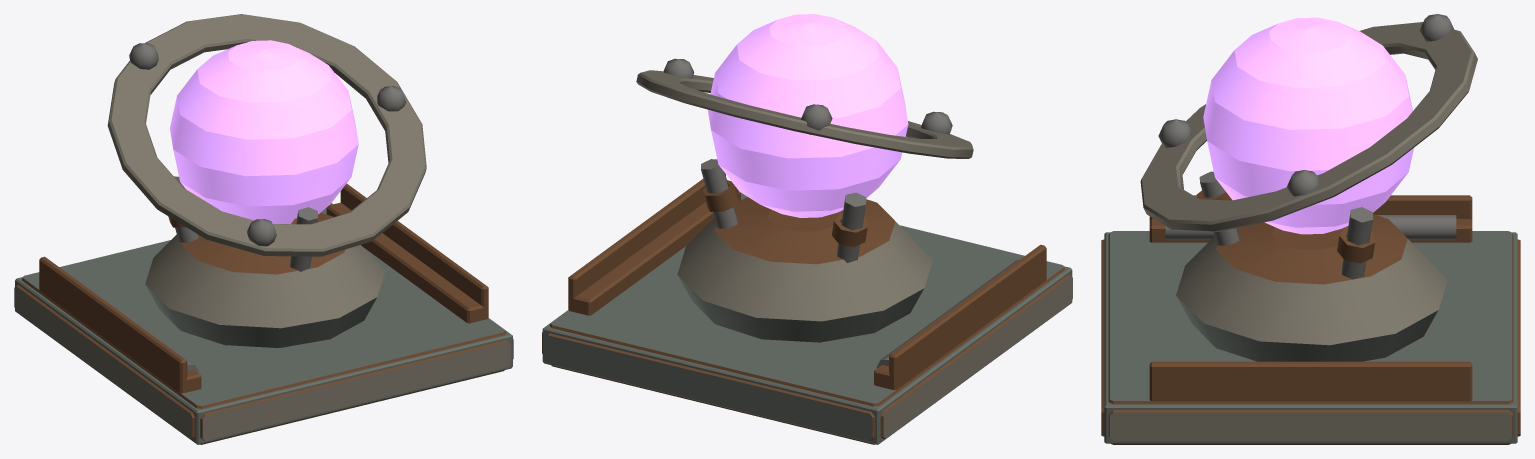
File: R4X_OrbAmplifier.fbx
3 renders of one model, left to right at view 1: azimuth 30°, elevation 25°; view 2: azimuth 150°, elevation 25°; view 3: azimuth 270°, elevation 25°, orthographic. The views are drawn at different scales.
Parts seen in each view (by area): view 1: R4X_OrbAmplifier_Body, R4X_OrbAmplifier_Ring; view 2: R4X_OrbAmplifier_Body, R4X_OrbAmplifier_Ring; view 3: R4X_OrbAmplifier_Body, R4X_OrbAmplifier_Ring.
Part boxes in pixels (x1,y1,x2,y2): R4X_OrbAmplifier_Body: [14, 40, 513, 444]; R4X_OrbAmplifier_Ring: [107, 14, 426, 256]; R4X_OrbAmplifier_Body: [542, 14, 1072, 444]; R4X_OrbAmplifier_Ring: [636, 58, 973, 158]; R4X_OrbAmplifier_Body: [1101, 17, 1520, 444]; R4X_OrbAmplifier_Ring: [1140, 14, 1477, 231].
Size of the model in its own units: 0.52 by 0.455 by 0.52.
